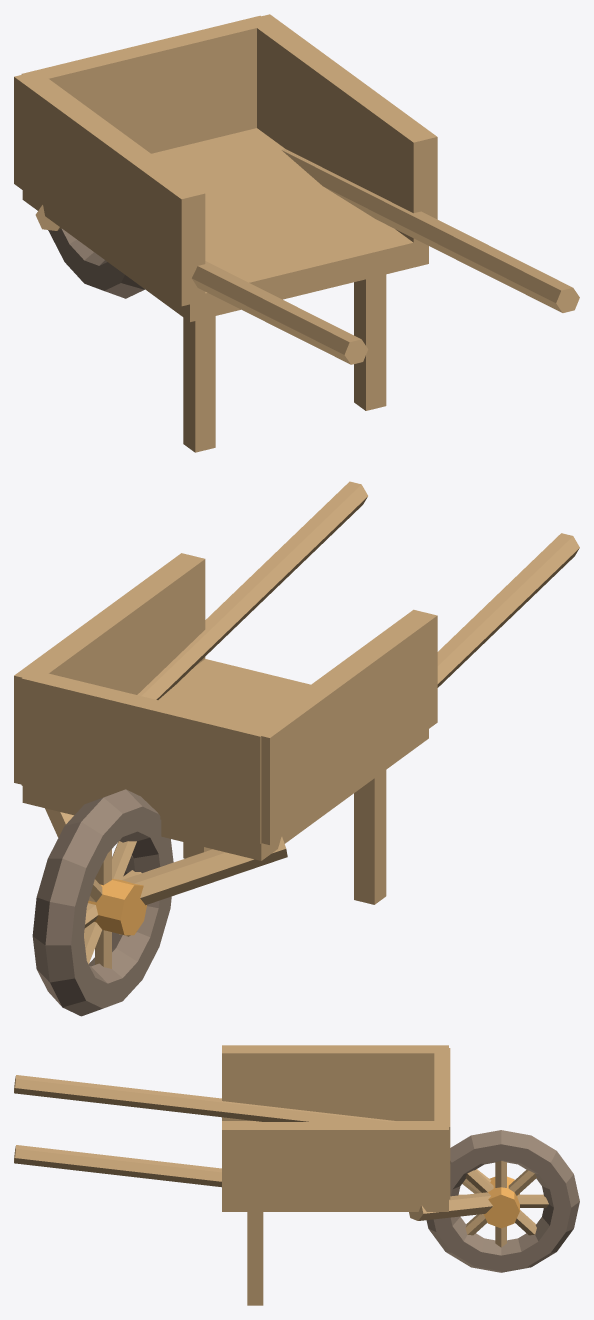
Rendered from harvest-hearth-harvest-wheelbarrow__63.glb.
3 views of the same model, one above another, from view 1: azimuth 30°, elevation 25°; view 2: azimuth 150°, elevation 25°; view 3: azimuth 270°, elevation 25° (orthographic). The views are drawn at different scales.
Parts seen in each view (by area): view 1: harvest-hearth-wheelbarrow; view 2: harvest-hearth-wheelbarrow; view 3: harvest-hearth-wheelbarrow.
Boxes of the visible parts, box(x1,y1,x2,y2) form: harvest-hearth-wheelbarrow: box(14, 14, 579, 452); harvest-hearth-wheelbarrow: box(14, 481, 579, 1016); harvest-hearth-wheelbarrow: box(14, 1045, 579, 1305).
Bounding box in the file's own units: 0.75 × 0.77 × 2.12.
